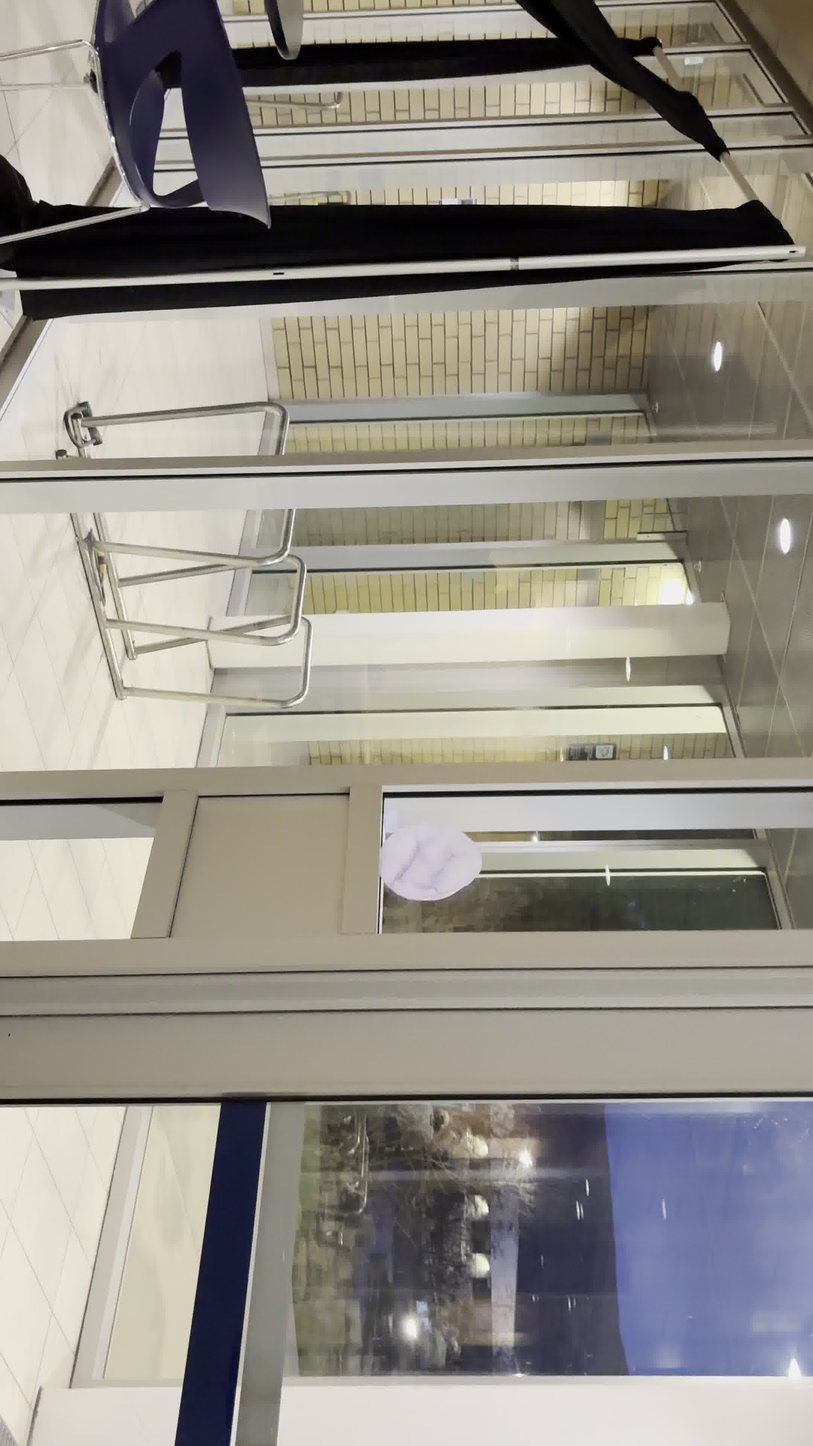Target: (377, 821, 483, 902)
